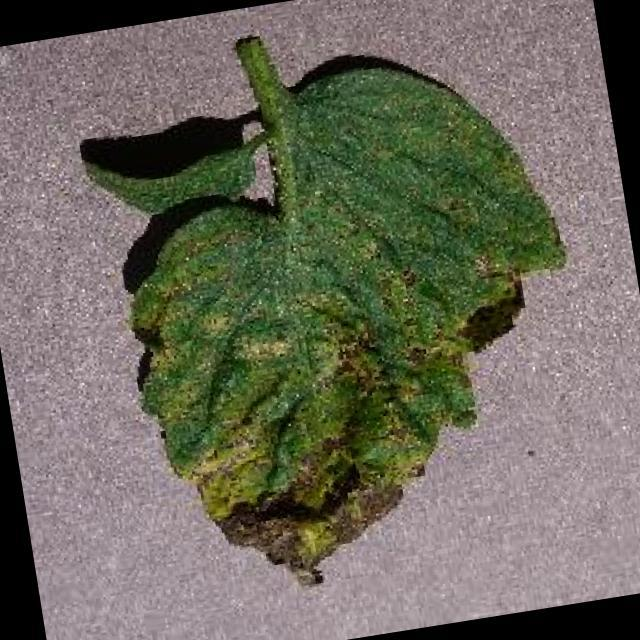Tomato Septoria spot leaf: (72, 36, 613, 607)
